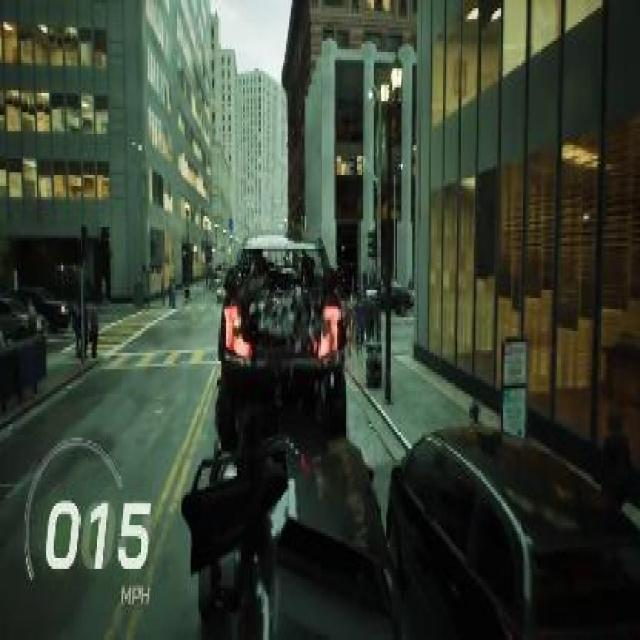accident: (194, 230, 403, 637)
